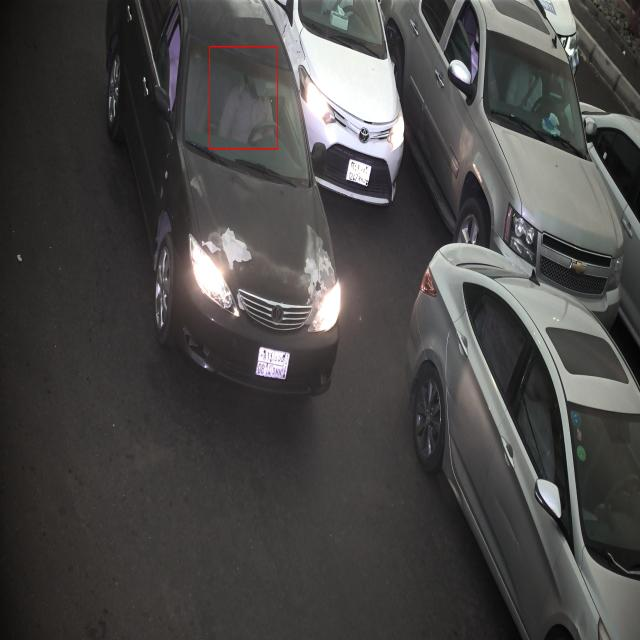windshield: (177, 34, 309, 194), (479, 31, 592, 168), (567, 400, 639, 584)
